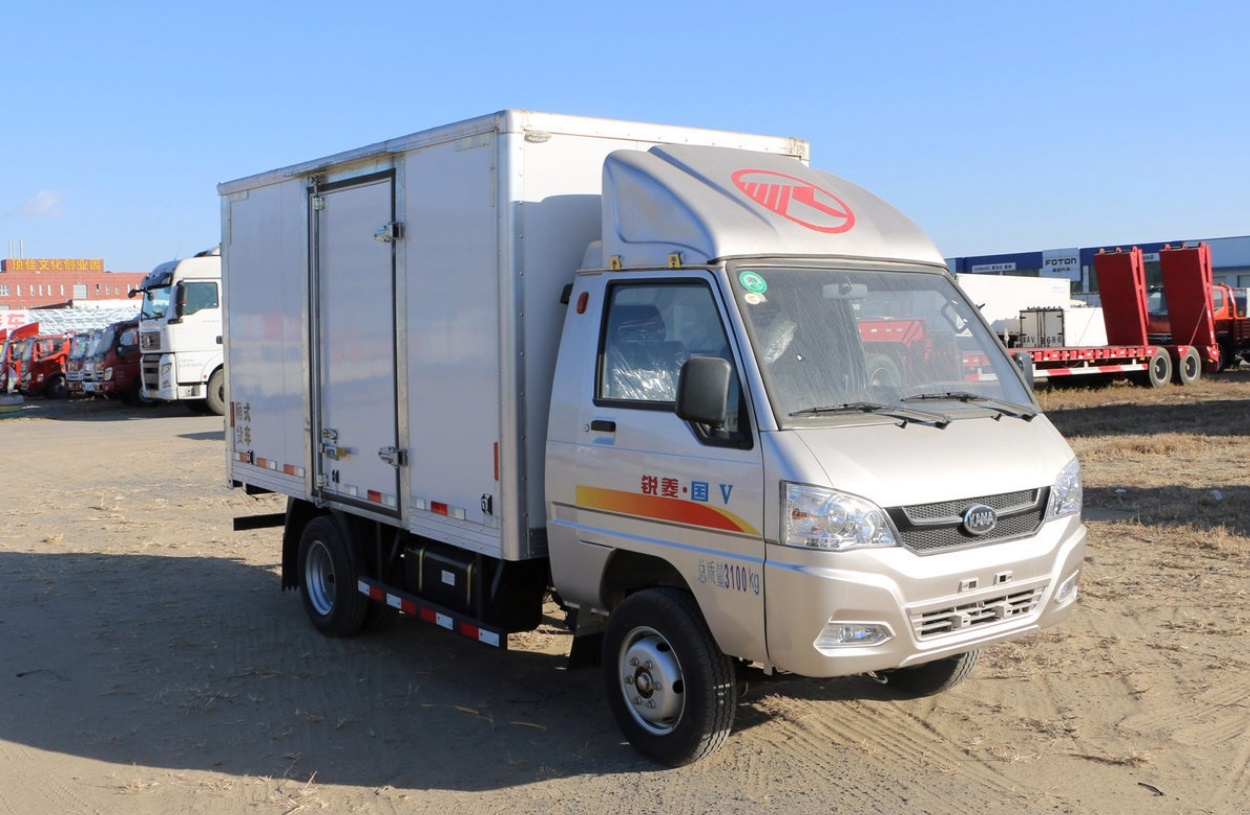truck: (181, 110, 1095, 766)
